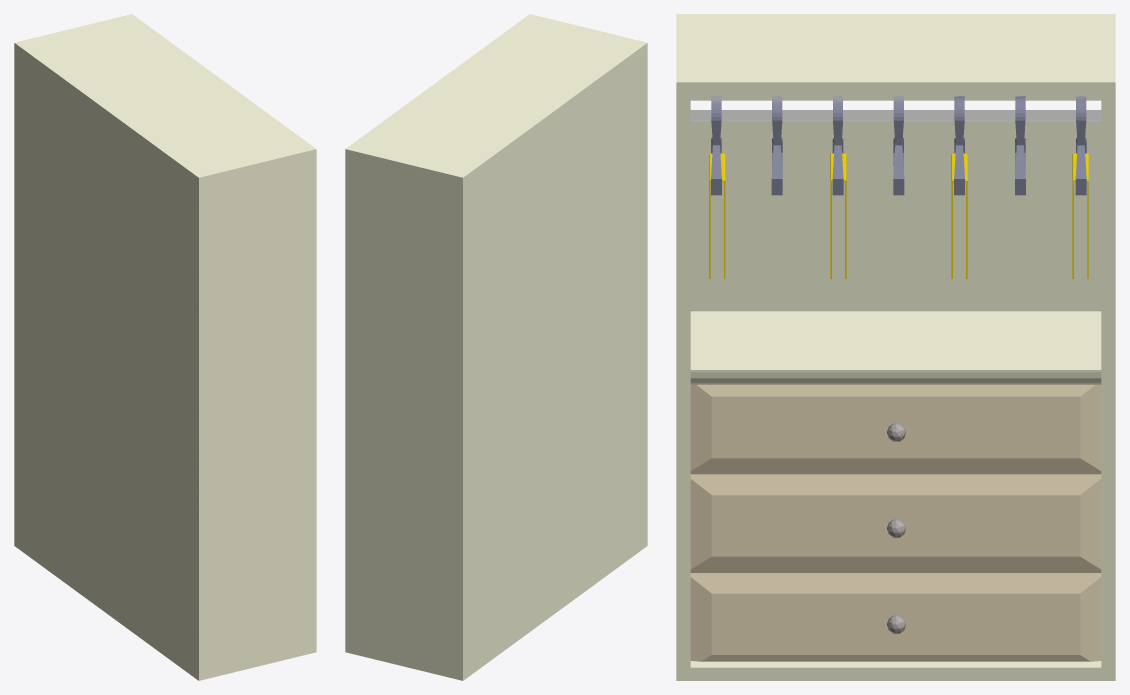
3 renders of one model, left to right at view 1: azimuth 30°, elevation 25°; view 2: azimuth 150°, elevation 25°; view 3: azimuth 270°, elevation 25°, orthographic. The views are drawn at different scales.
Visible parts, largest first — view 1: Prostokąt.001; view 2: Prostokąt.001; view 3: Prostokąt.001.
Part boxes in pixels (<box>): Prostokąt.001: <box>14,14,316,680</box>; Prostokąt.001: <box>345,14,647,680</box>; Prostokąt.001: <box>676,14,1115,680</box>.
Bounding box in the file's own units: 204 × 816 × 543.
1 material, 1 textured.
